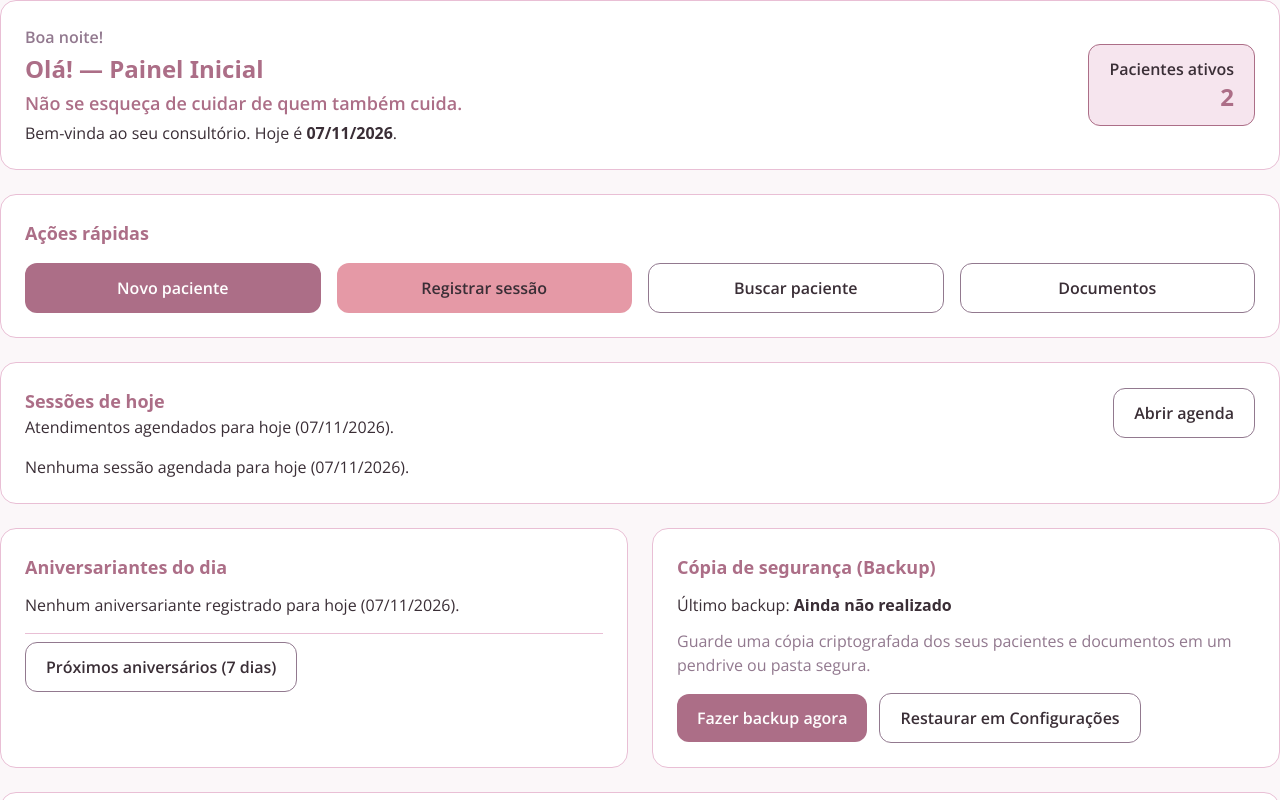
Scenario: Painel Inicial T04 (F2-T3) › exibe saudação inicial, total de pacientes ativos, atalhos, espaço de aniversariantes e backup
The image size is (1280, 800).
Expected: the heading "Olá! — Painel Inicial" is shown, [25,52,264,85]
Expected: the text with test id "valor-total-ativos" reads "2", [1220,80,1234,113]
Click the button "Próximos aniversários (7 dias)".
click(161, 667)  # box [25,642,297,692]
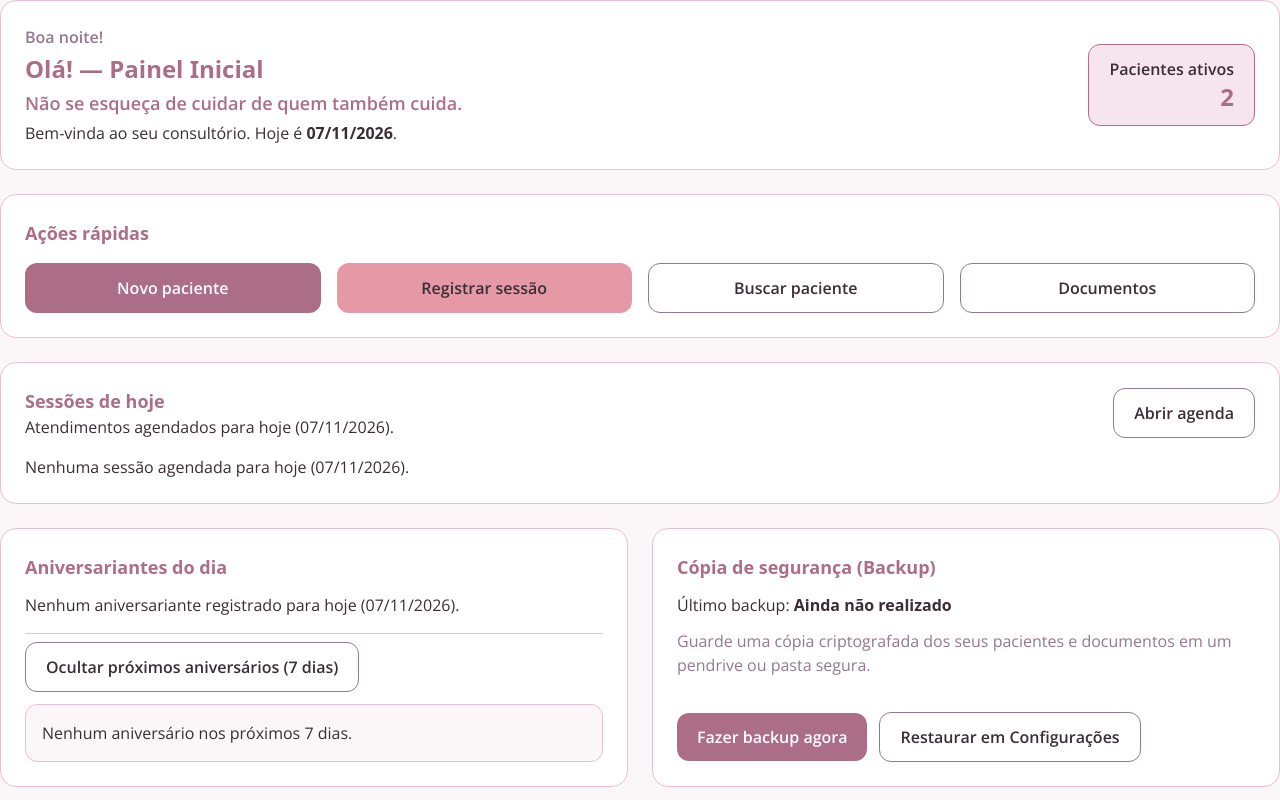
Expected: the element with test id "secao-backup" is shown, [652,528,1279,787]
Expected: the text "Nenhum aniversário nos próximos 7 dias." is shown, [25,704,603,762]
